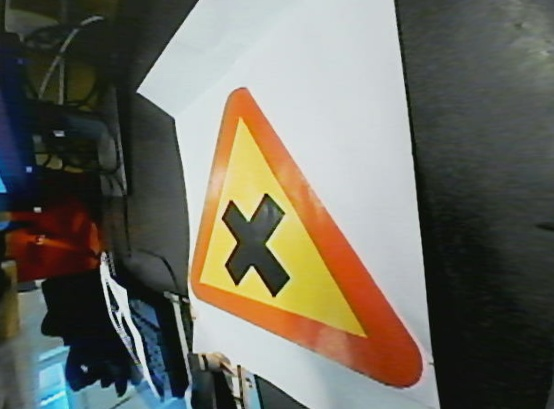junction: (174, 83, 430, 392)
